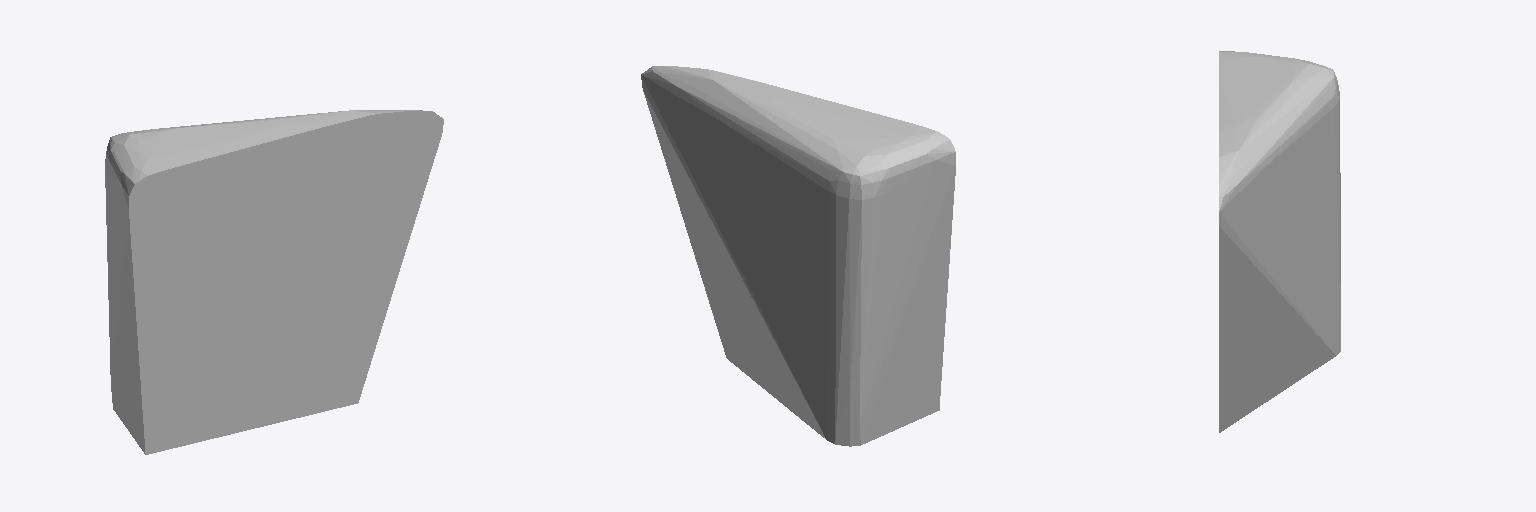
The model's file is box_long_brown_M_collision_7.obj.
The picture shows the model from 3 angles: view 1: azimuth 30°, elevation 25°; view 2: azimuth 150°, elevation 25°; view 3: azimuth 270°, elevation 25°; orthographic projection.
Bounding box in the file's own units: 0.03 × 0.0259 × 0.0101.